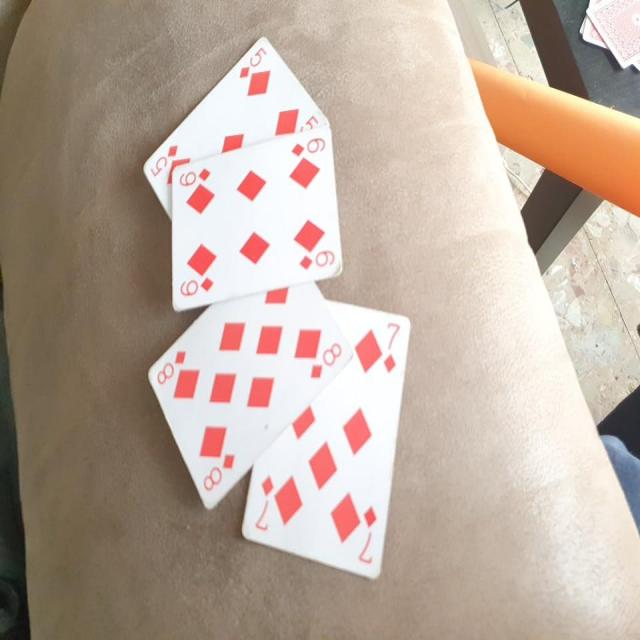5 Diamonds: (138, 34, 332, 221)
6 Diamonds: (172, 122, 345, 308)
7 Diamonds: (239, 301, 412, 578)
8 Diamonds: (147, 280, 355, 511)
